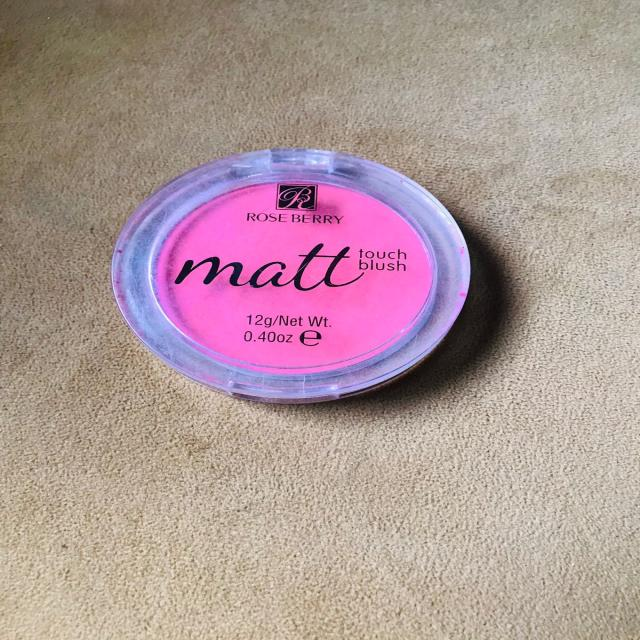blush: (94, 161, 472, 403)
